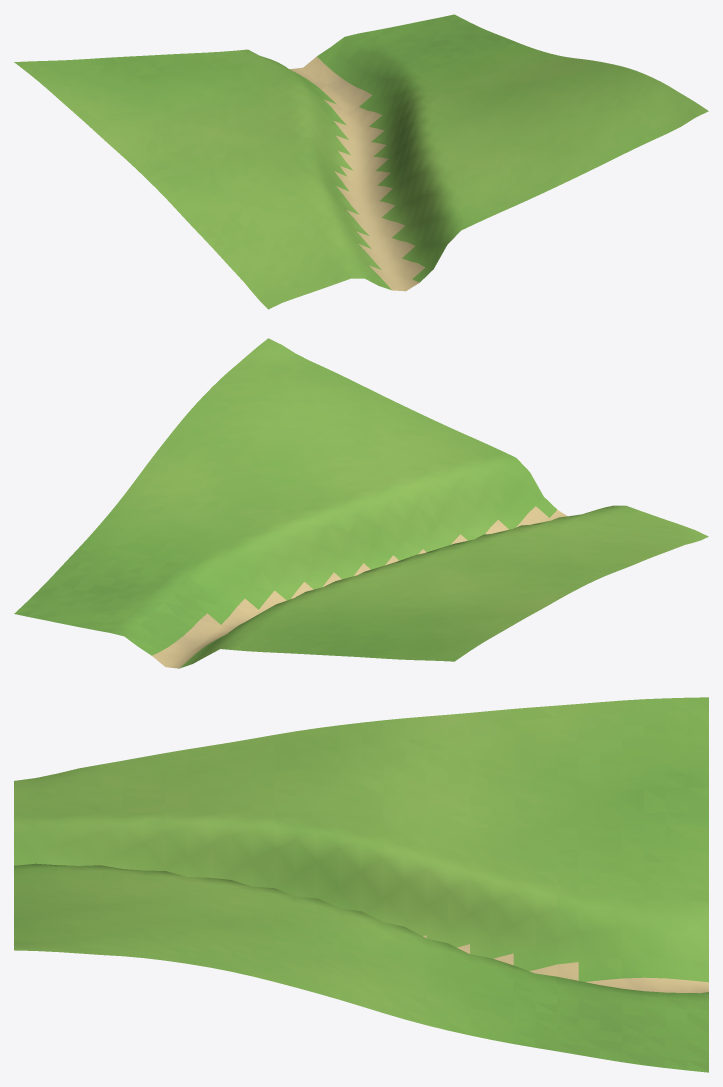
File: terrain_r4_c4.glb
3 views of the same model, one above another, from view 1: azimuth 30°, elevation 25°; view 2: azimuth 150°, elevation 25°; view 3: azimuth 270°, elevation 25° (orthographic). The views are drawn at different scales.
Parts seen in each view (by area): view 1: terrain_r4_c4; view 2: terrain_r4_c4; view 3: terrain_r4_c4.
Boxes of the visible parts, box(x1,y1,x2,y2) form: terrain_r4_c4: box(14, 14, 708, 309); terrain_r4_c4: box(14, 338, 708, 668); terrain_r4_c4: box(14, 697, 708, 1072).
Bounding box in the file's own units: 128 × 29.49 × 128.
Materials: 1 (1 with a texture image).
